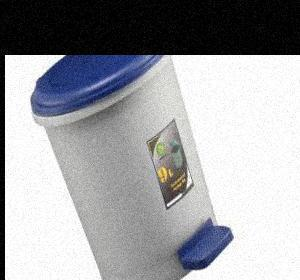Bote de Basura: (33, 66, 228, 280)
